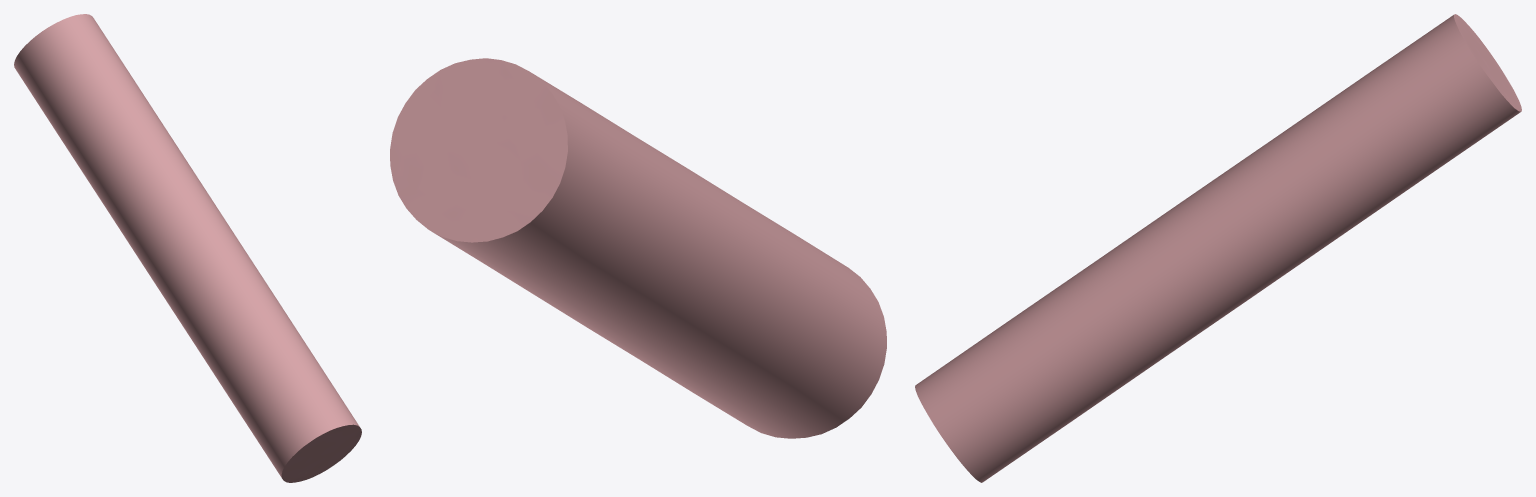
File: fma59049_mm839m.glb
3 renders of one model, left to right at view 1: azimuth 30°, elevation 25°; view 2: azimuth 150°, elevation 25°; view 3: azimuth 270°, elevation 25°, orthographic. The views are drawn at different scales.
Visible parts, largest first — view 1: FMA59049_MM839M; view 2: FMA59049_MM839M; view 3: FMA59049_MM839M.
Boxes of the visible parts, x1,y1,x2,y2 form: FMA59049_MM839M: (14,14,361,482); FMA59049_MM839M: (390,58,886,438); FMA59049_MM839M: (915,14,1521,482).
Bounding box in the file's own units: 0.00623 × 0.015 × 0.0193.
